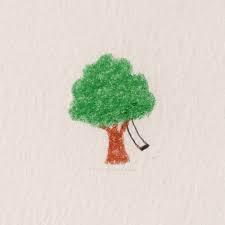tree: (68, 52, 157, 165)
